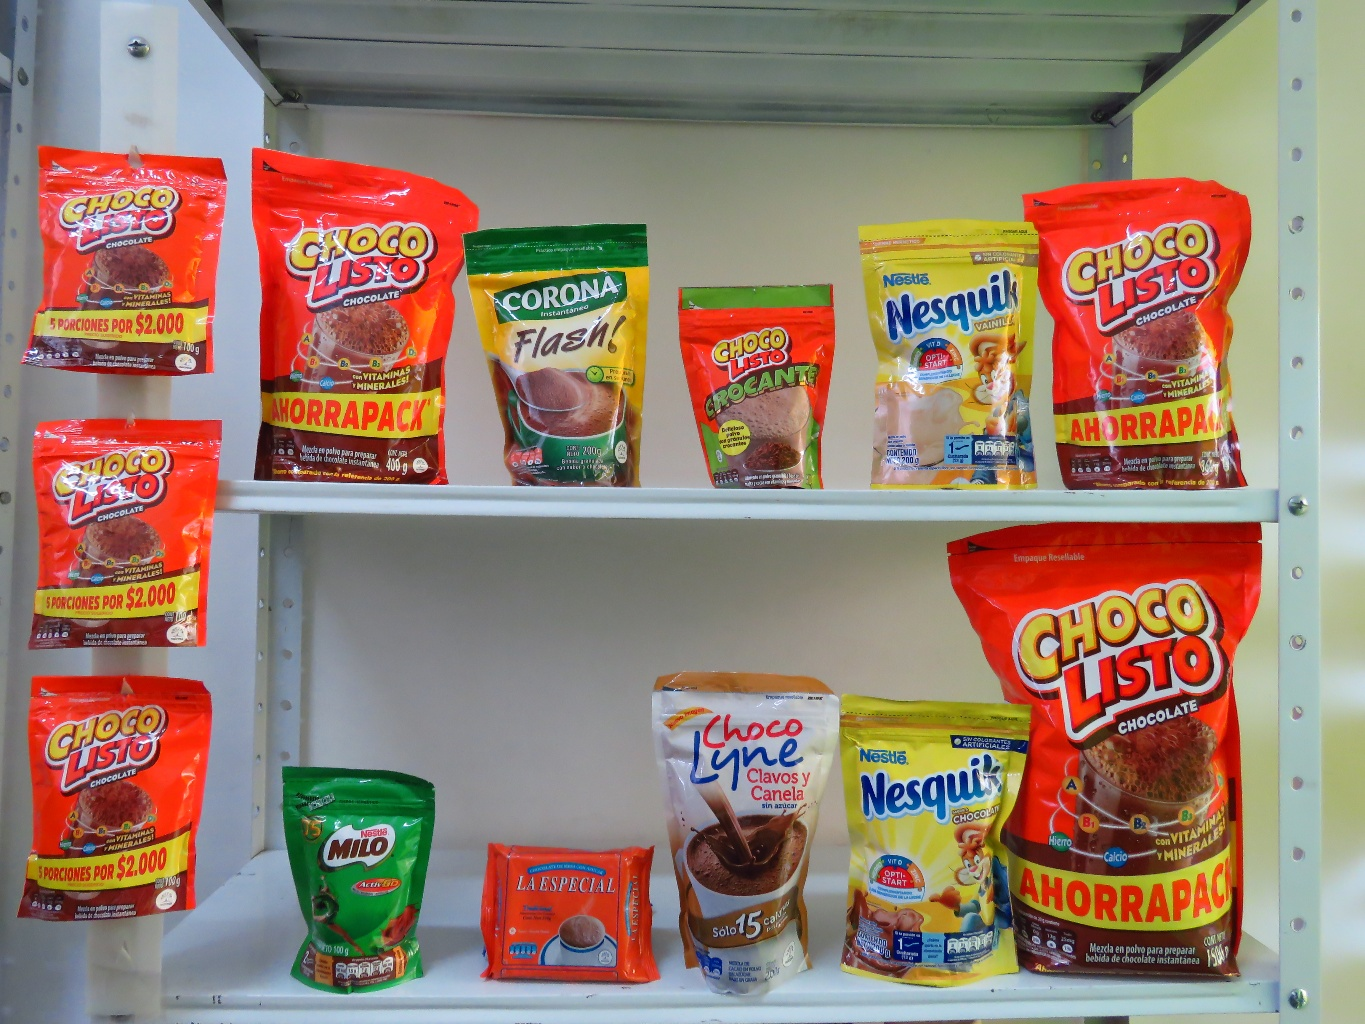COL0170102DYP10000: (674, 272, 843, 490)
COL0170103DYP1,500: (951, 522, 1272, 973)
COL0170103DYP10000: (15, 674, 224, 923)
COL0170103DYP36000: (1027, 174, 1256, 489)
COL0170103DYP40000: (240, 140, 461, 478)
COL0170203DYP10000: (278, 743, 457, 987)
COL0170303DYP20000: (845, 686, 1032, 1001)
COL0170306DYP20000: (844, 212, 1035, 487)
